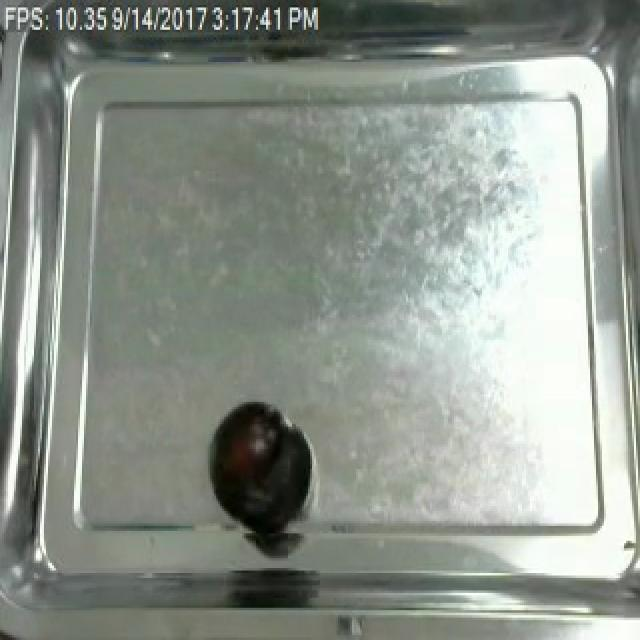Fruit: (210, 402, 284, 518)
